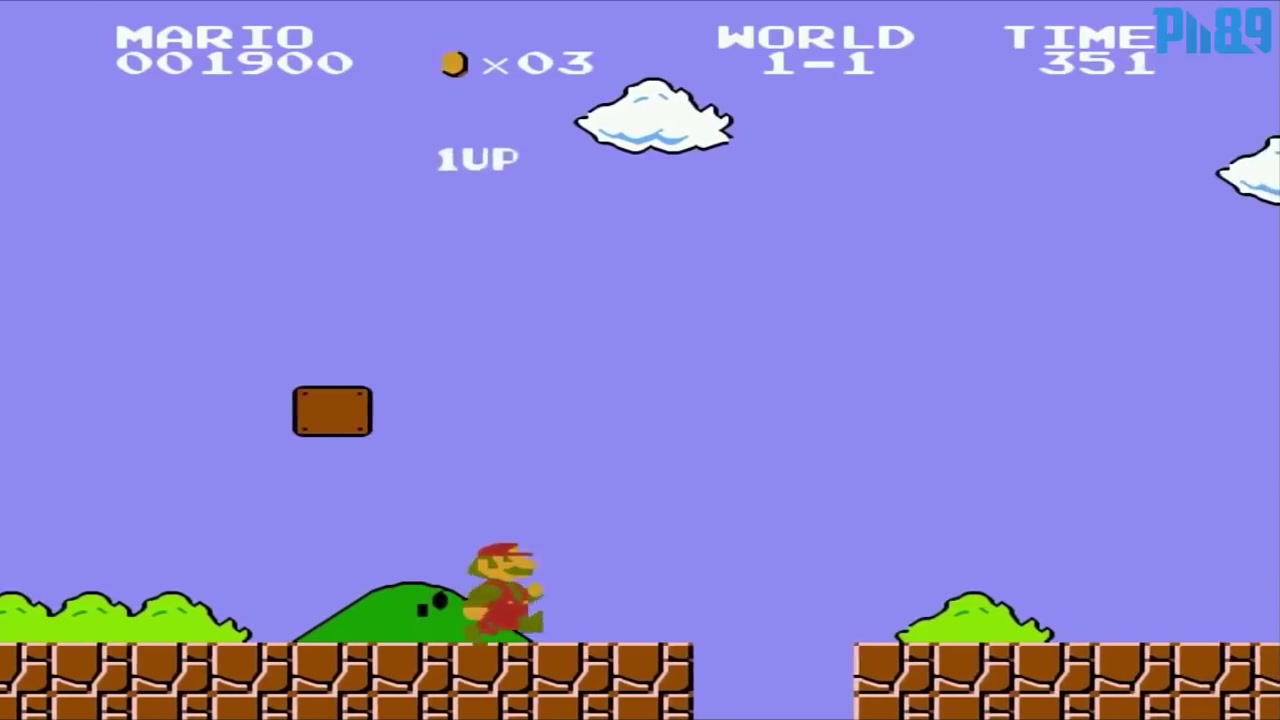mario: (446, 534, 554, 641)
